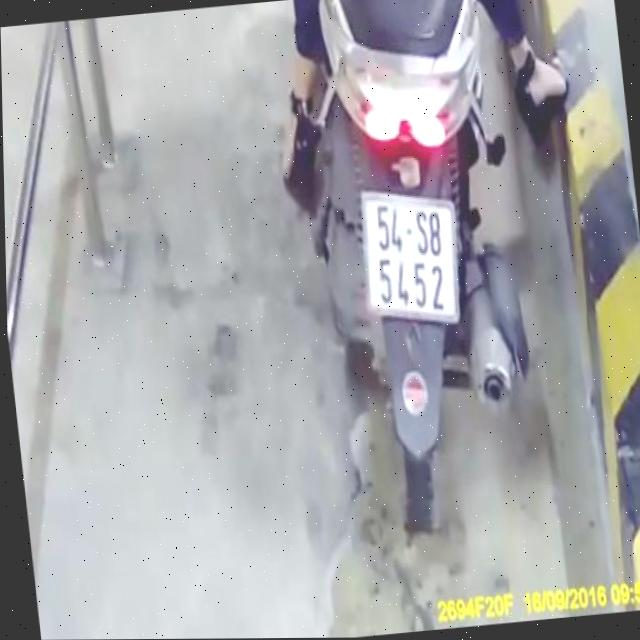motorcycle: (297, 0, 562, 559)
plate: (352, 178, 474, 332)
